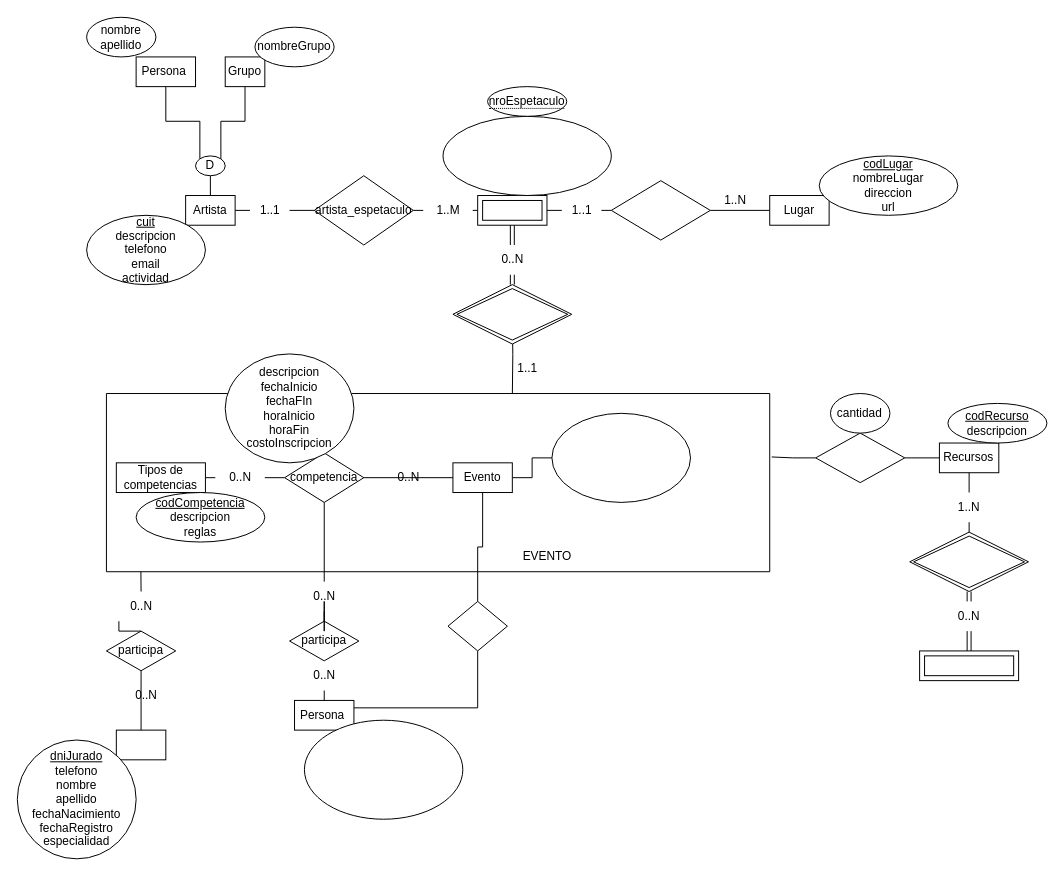
This 1064x876 diagram has some shape labels left out. The shapes that lost their labels are listed below. From the top down, each one's centre as x and y in pixels, then its label:
At (526,155): "nombreEspetaculo fechaInicio horaInicio fechaInicio horaFin".
At (512,210): "Espetaculo".
At (660,210): "lugar_espetaculo".
At (512,314): "evento_espetaculo".
At (621,457): "nroEvento descripcionEvento fechaInicio fechaFin horaInicio horaFin".
At (860,457): "evento_alquila".
At (969,561): "recursos_registra".
At (477,625): "organiza".
At (969,665): "Costo_Recurso".
At (140,744): "Jurado".
At (383,769): "dniPersona nombre apellido telefono email fechaNacimiento".
